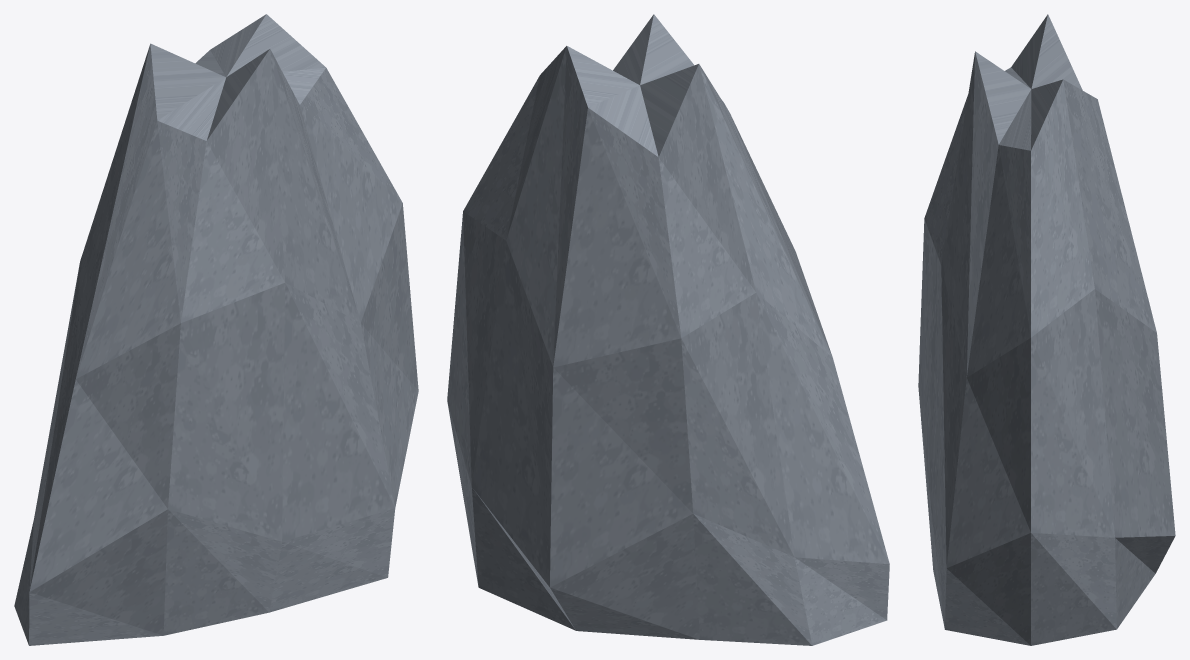
The model's file is showcase_rock_face.glb.
The picture shows the model from 3 angles, left to right: view 1: azimuth 30°, elevation 25°; view 2: azimuth 150°, elevation 25°; view 3: azimuth 270°, elevation 25°; orthographic projection. The views are drawn at different scales.
Parts seen in each view (by area): view 1: outdoor_showcase_rock_face; view 2: outdoor_showcase_rock_face; view 3: outdoor_showcase_rock_face.
Boxes of the visible parts, x1,y1,x2,y2 form: outdoor_showcase_rock_face: [14, 14, 418, 645]; outdoor_showcase_rock_face: [447, 14, 889, 645]; outdoor_showcase_rock_face: [918, 14, 1175, 645].
Bounding box in the file's own units: 4 × 5 × 2.2.
Materials: 1 (1 with a texture image).
